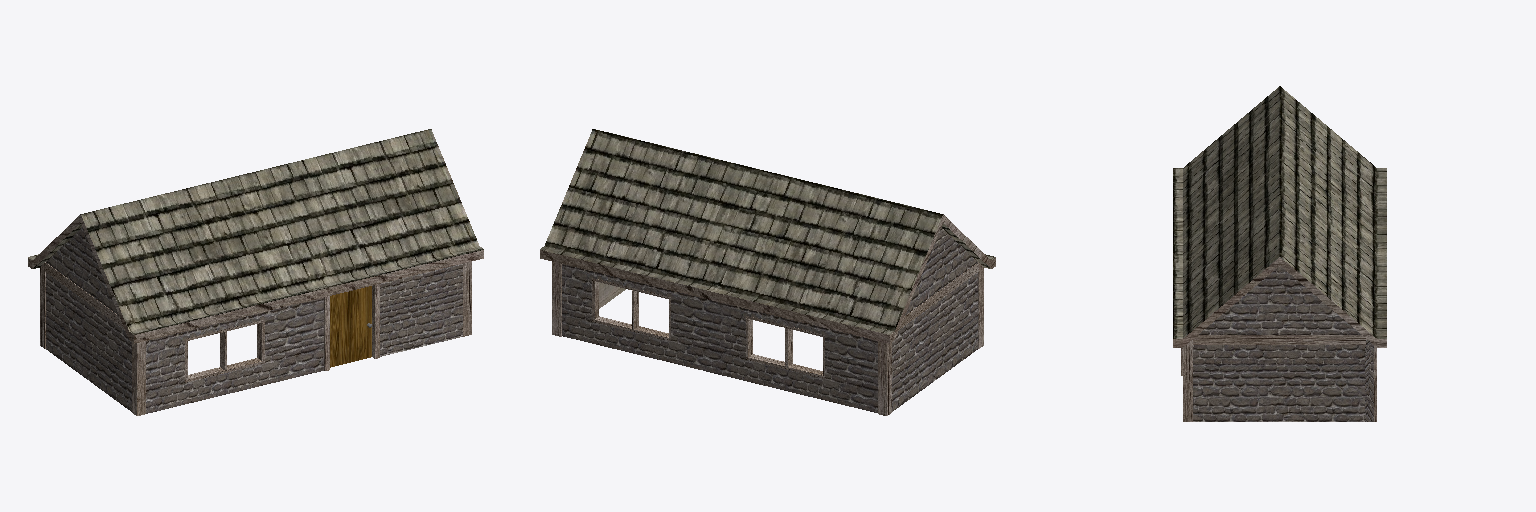
3 renders of one model, left to right at view 1: azimuth 30°, elevation 25°; view 2: azimuth 150°, elevation 25°; view 3: azimuth 270°, elevation 25°, orthographic.
Size of the model in its own units: 42 by 19.38 by 22.12.
4 materials, 1 textured.